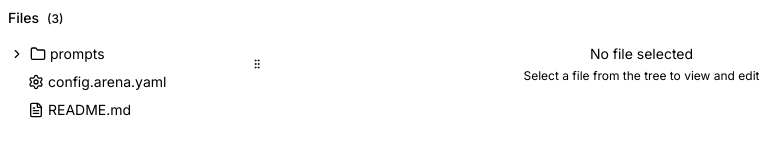
Test: SourceExplorer › shows file path bar when a file is selected
Click the button "README.md" at (80, 110), box [28,101,131,118]
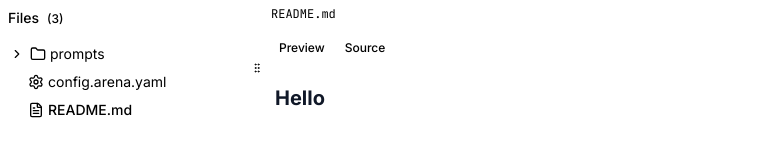
Check: the 1st text "README.md" is shown, box [271,6,336,22]
